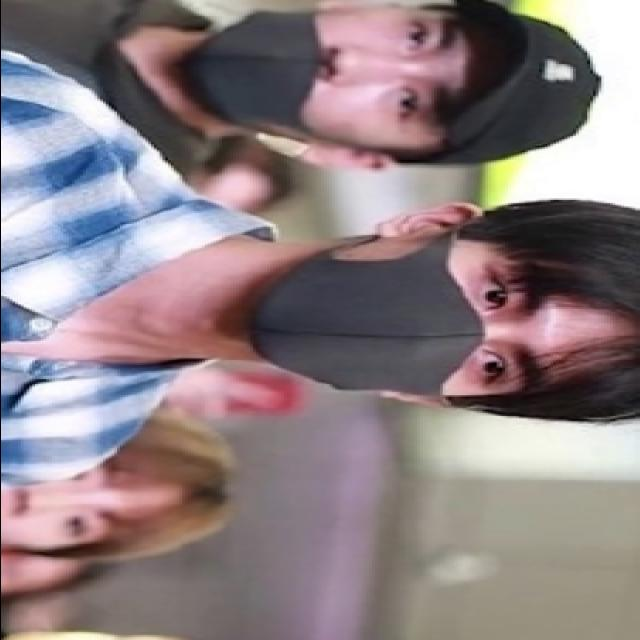mask_weared_incorrect: (181, 3, 459, 152)
with_mask: (246, 232, 564, 397)
without_mask: (5, 458, 134, 548)
